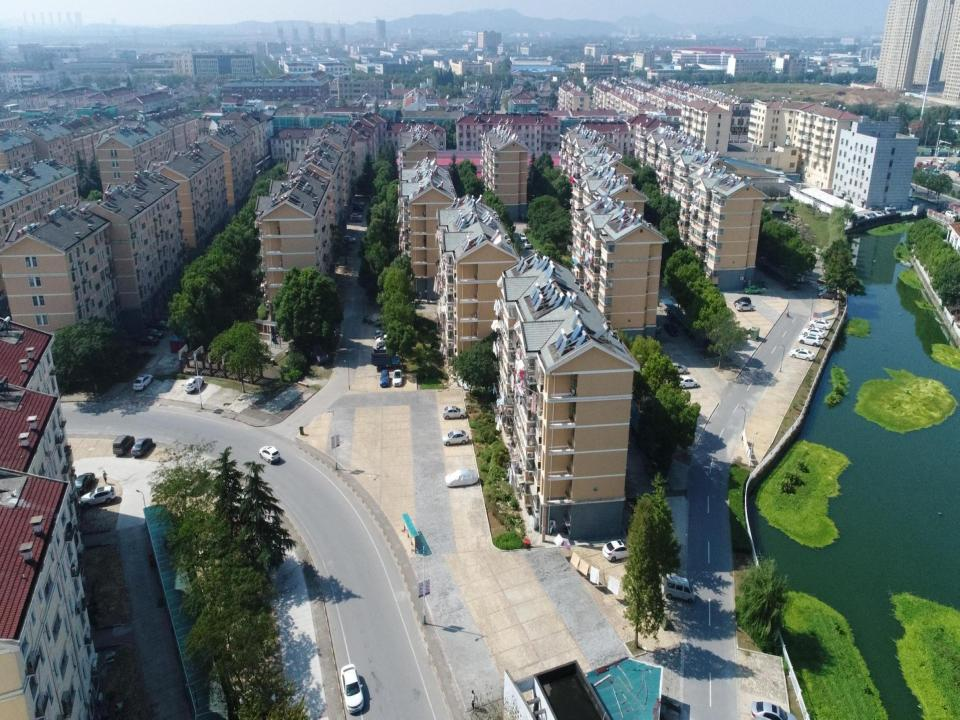car: (340, 663, 364, 714), (749, 699, 797, 719), (79, 485, 116, 509), (602, 538, 634, 563), (445, 468, 478, 488), (71, 472, 95, 496), (130, 436, 154, 458), (112, 433, 134, 455), (441, 430, 469, 445), (259, 445, 280, 465), (184, 375, 204, 394), (133, 374, 153, 391), (788, 348, 814, 361), (801, 326, 825, 339), (442, 406, 466, 419), (676, 375, 698, 389), (798, 334, 820, 347), (141, 327, 164, 339), (667, 362, 688, 375), (808, 319, 830, 331), (150, 318, 170, 330), (664, 321, 678, 337), (138, 334, 158, 345), (391, 369, 403, 387), (743, 284, 763, 294), (374, 329, 392, 340), (818, 290, 837, 300), (736, 301, 754, 311), (734, 296, 752, 306), (376, 340, 392, 351), (376, 334, 392, 345), (380, 369, 389, 387), (374, 326, 390, 336), (817, 285, 835, 293), (340, 235, 356, 244), (651, 322, 662, 334), (349, 212, 363, 219), (352, 205, 363, 212), (353, 200, 365, 206), (349, 216, 363, 221)
truck: (372, 348, 400, 369), (310, 343, 329, 366)
van: (662, 574, 695, 604), (375, 316, 388, 327)
